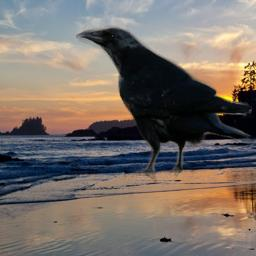Crow: (76, 25, 252, 185)
